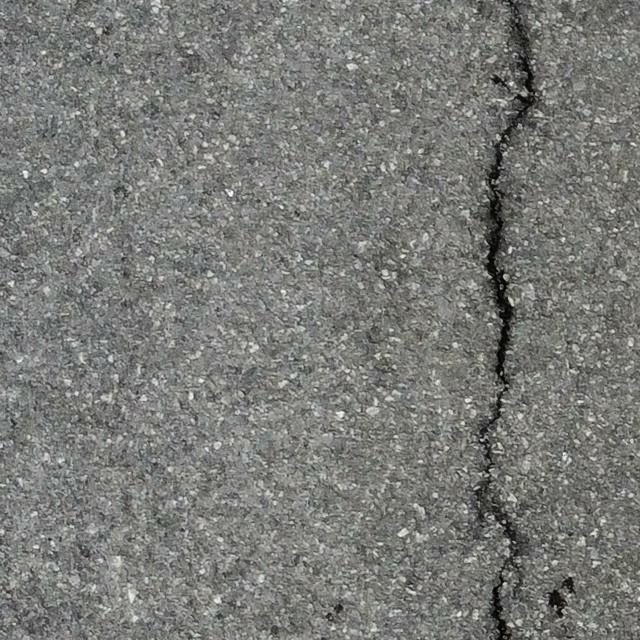LongitudinalCrack: (472, 1, 541, 640)
